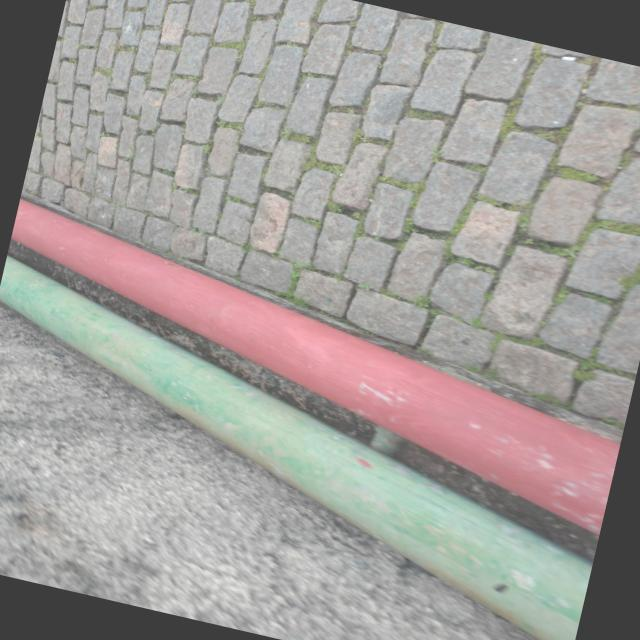gas: (0, 256, 592, 640), (11, 198, 620, 533)
